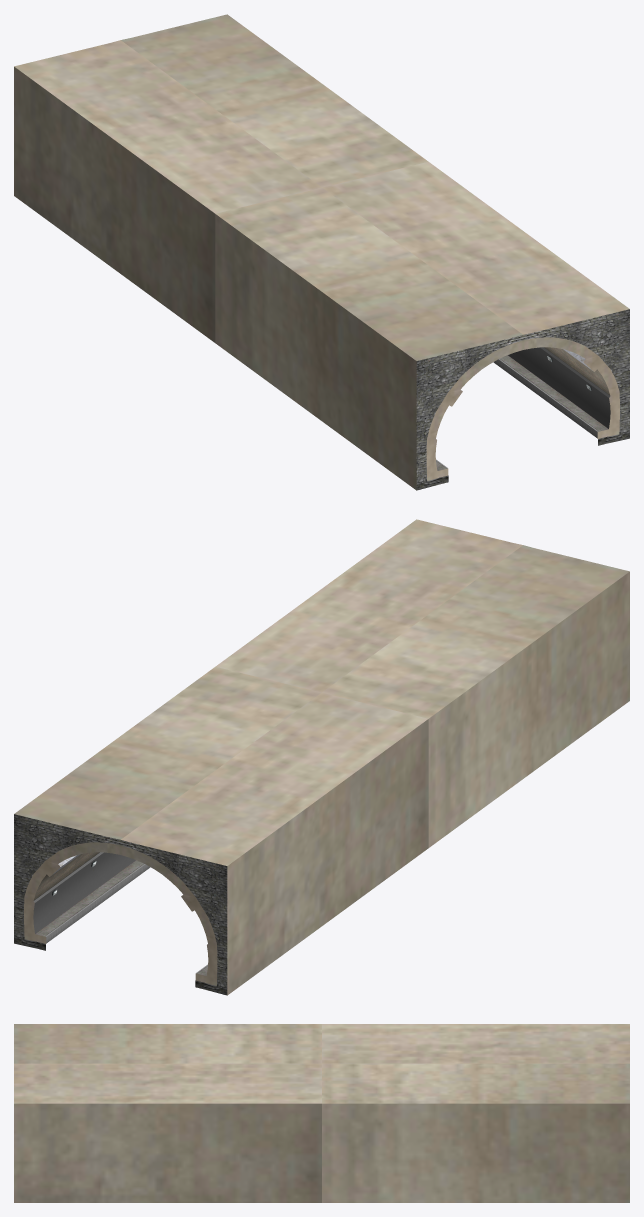
The model's file is Tunnel_Straight.fbx.
3 views of the same model, one above another, from view 1: azimuth 30°, elevation 25°; view 2: azimuth 150°, elevation 25°; view 3: azimuth 270°, elevation 25° (orthographic). The views are drawn at different scales.
Parts seen in each view (by area): view 1: Tunnel__2_, Tunnel__1_; view 2: Tunnel__1_, Tunnel__2_; view 3: Tunnel__2_, Tunnel__1_.
Part boxes in pixels (left/top/right/bottom): Tunnel__2_: left=215, top=161, right=629, bottom=490; Tunnel__1_: left=14, top=14, right=428, bottom=342; Tunnel__1_: left=14, top=666, right=428, bottom=995; Tunnel__2_: left=215, top=519, right=629, bottom=847; Tunnel__2_: left=14, top=1024, right=321, bottom=1202; Tunnel__1_: left=322, top=1024, right=629, bottom=1202.
Bounding box in the file's own units: 43.13 × 25.07 × 141.
1 material, 1 textured.
